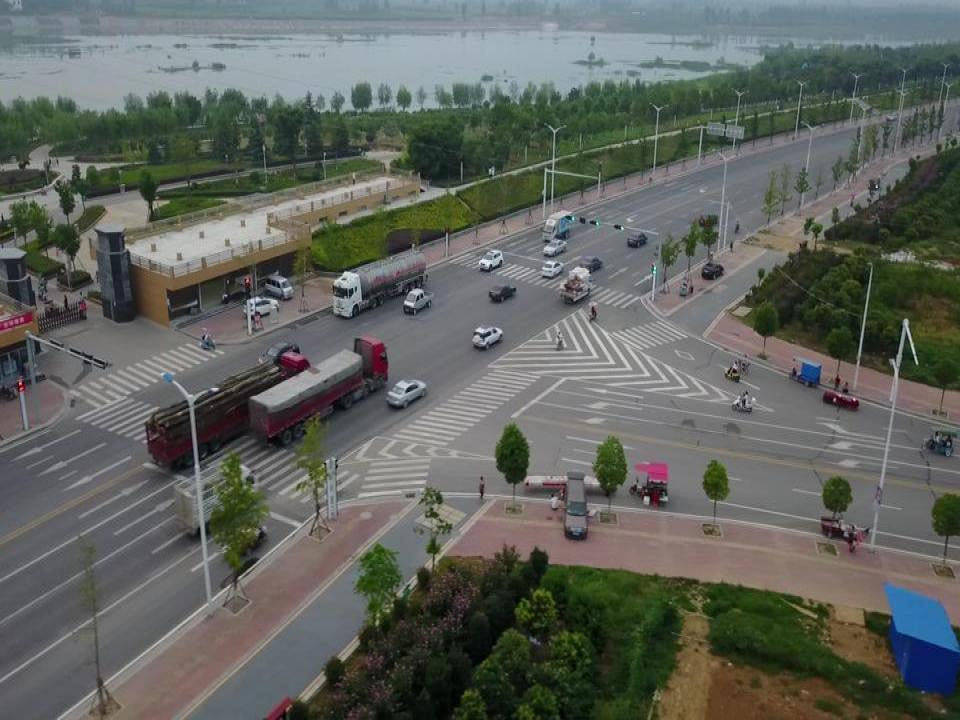car: (258, 341, 302, 367), (385, 380, 427, 407), (231, 524, 267, 553), (242, 296, 279, 319), (471, 324, 503, 349), (478, 249, 504, 272), (488, 282, 517, 302), (542, 238, 567, 258), (579, 255, 603, 272), (541, 260, 563, 277), (701, 262, 724, 278), (626, 230, 648, 246), (698, 212, 718, 227), (867, 176, 881, 189), (885, 112, 899, 121)
truck: (144, 352, 312, 472), (248, 333, 390, 447), (330, 243, 428, 318), (173, 459, 260, 540), (559, 267, 592, 304), (539, 209, 572, 243), (403, 286, 434, 314)
van: (564, 468, 588, 539), (264, 273, 294, 300)
